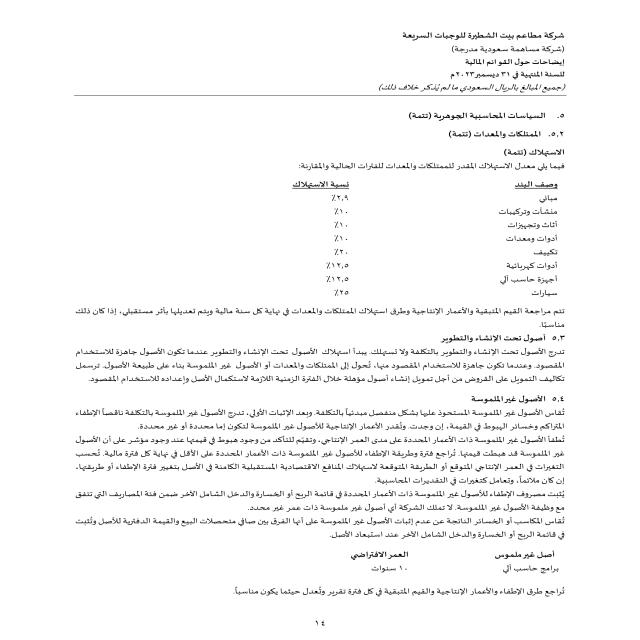notes: (454, 56, 567, 68)
table: (254, 173, 572, 302)
